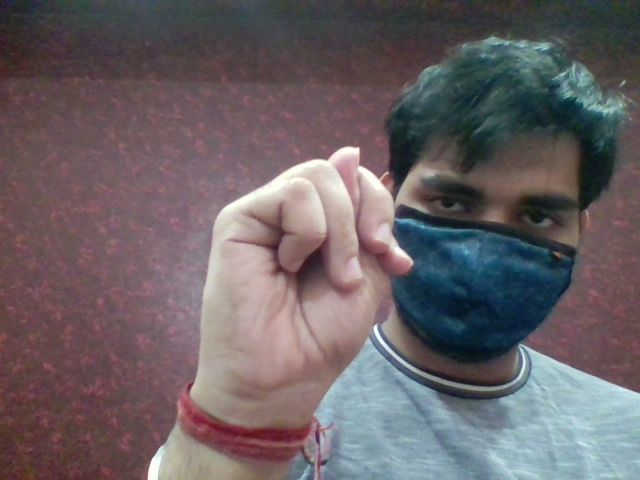n: (182, 137, 410, 430)
